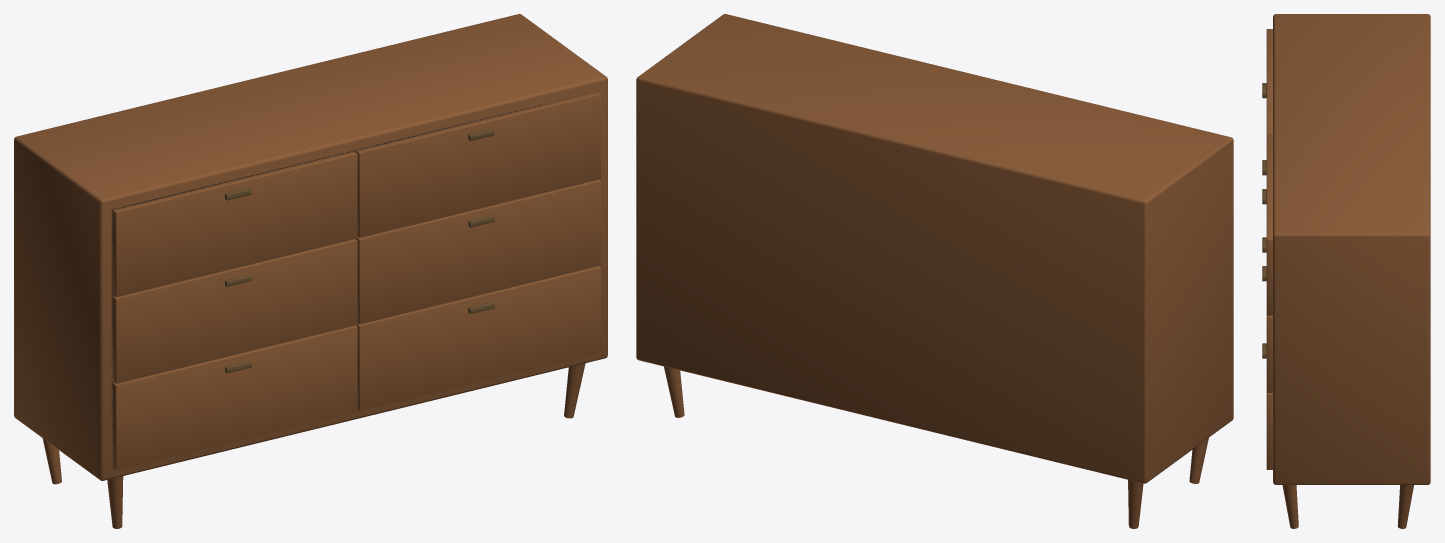
Rendered from mid-century-6-drawer-dresser.glb.
3 renders of one model, left to right at view 1: azimuth 30°, elevation 25°; view 2: azimuth 150°, elevation 25°; view 3: azimuth 270°, elevation 25°, orthographic. The views are drawn at different scales.
Visible parts, largest first — view 1: mid-century-6-drawer-dresser; view 2: mid-century-6-drawer-dresser; view 3: mid-century-6-drawer-dresser.
Part boxes in pixels (bbox=[...]): mid-century-6-drawer-dresser: bbox=[14, 14, 607, 528]; mid-century-6-drawer-dresser: bbox=[636, 14, 1233, 528]; mid-century-6-drawer-dresser: bbox=[1262, 14, 1430, 528].
Bounding box in the file's own units: 1.42 × 0.9144 × 0.4572.
